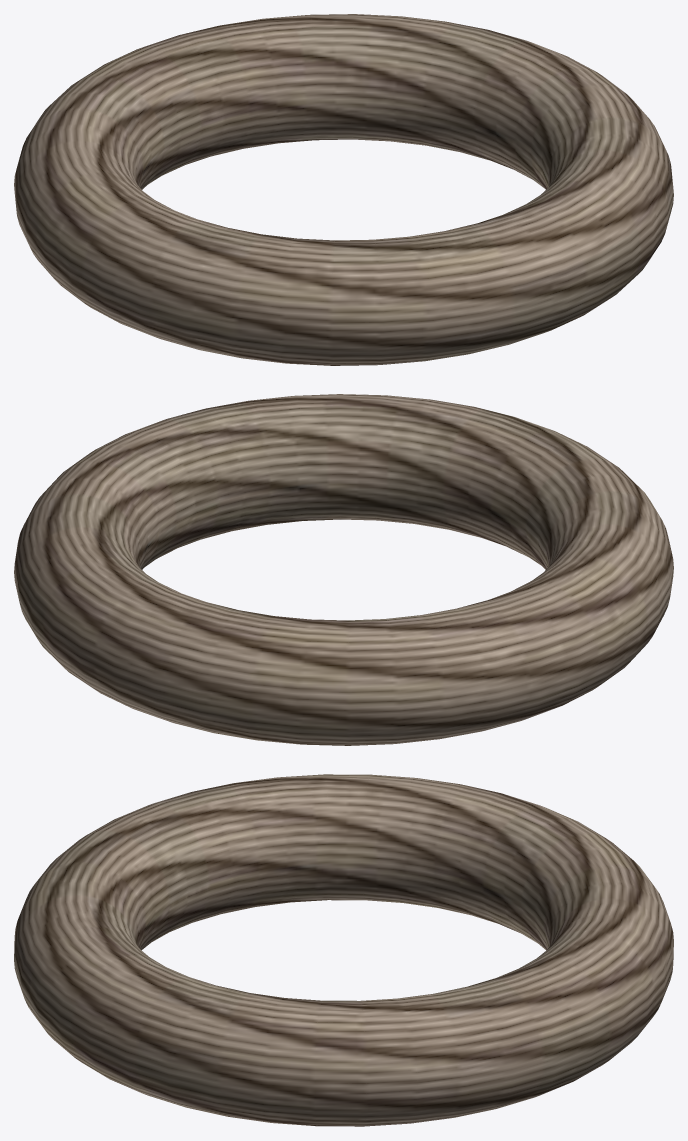
Rendered from Rope4F.fbx.
3 renders of one model, top to bottom at view 1: azimuth 30°, elevation 25°; view 2: azimuth 150°, elevation 25°; view 3: azimuth 270°, elevation 25°, orthographic.
Visible parts, largest first — view 1: pasted__pTorus1; view 2: pasted__pTorus1; view 3: pasted__pTorus1.
Boxes of the visible parts, x1,y1,x2,y2 form: pasted__pTorus1: (14, 14, 673, 365); pasted__pTorus1: (14, 394, 673, 745); pasted__pTorus1: (14, 774, 673, 1126).
Bounding box in the file's own units: 0.8809 × 0.1683 × 0.8809.
